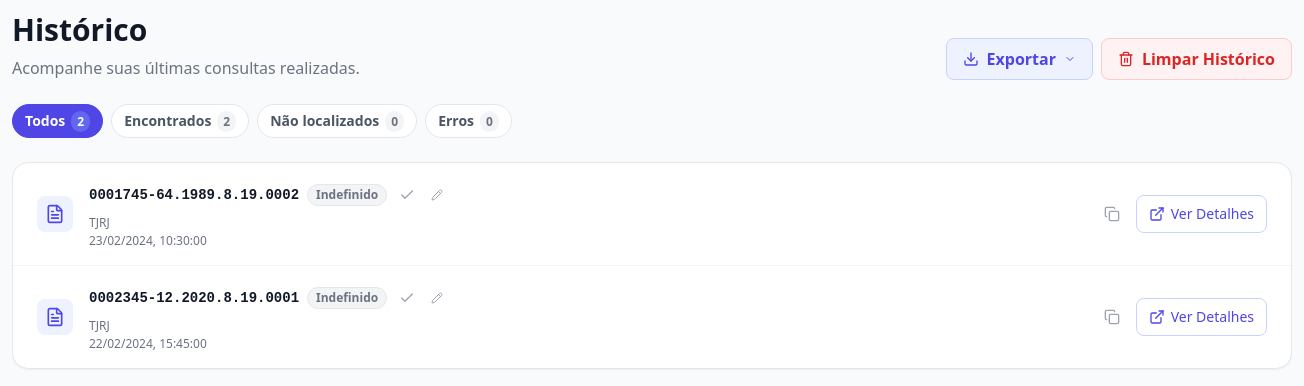
it: HistoryTab Component › Clear History Functionality › TC-11: clears history on confirmation
Check: the text "0001745-64.1989.8.19.0002" is shown, box [89, 185, 299, 205]
Note: Click clear button
Click the button "Limpar Histórico": (1196, 59) [1101, 38, 1292, 80]
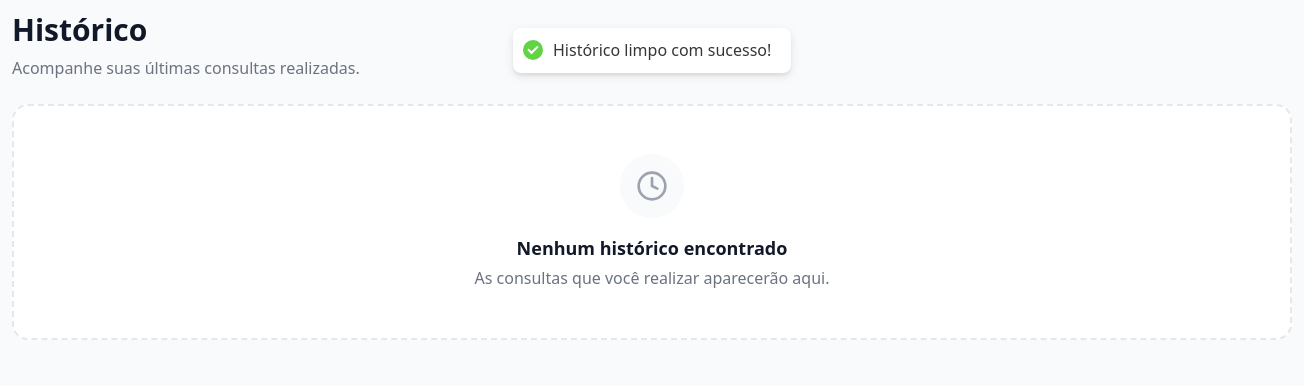
Check: the text "0001745-64.1989.8.19.0002" is gone
